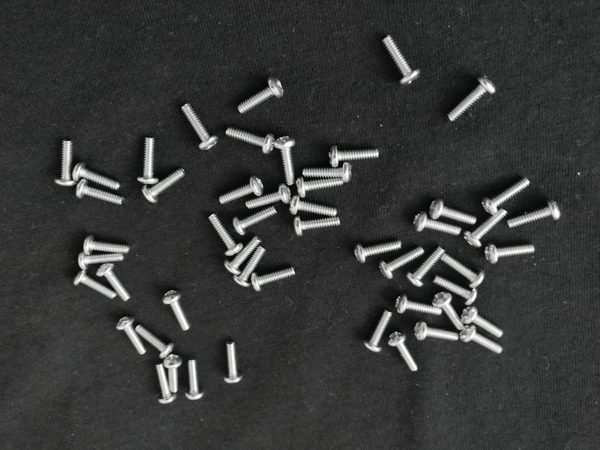shortscrew: (448, 75, 497, 123), (383, 35, 421, 87), (481, 179, 530, 216), (181, 103, 218, 150), (238, 77, 284, 114), (464, 209, 507, 248), (441, 253, 485, 288), (407, 247, 445, 287), (508, 199, 562, 227), (208, 213, 243, 256), (142, 169, 186, 203), (224, 236, 261, 275), (380, 248, 424, 280), (233, 206, 279, 236), (462, 306, 505, 338), (234, 246, 266, 288), (219, 176, 265, 205), (97, 263, 131, 302), (226, 127, 275, 154), (433, 276, 477, 306), (460, 325, 505, 354), (388, 331, 419, 373), (136, 325, 174, 359), (73, 269, 116, 299), (73, 163, 120, 190), (75, 180, 125, 205), (364, 309, 392, 353), (485, 241, 537, 264), (246, 184, 292, 210), (116, 315, 145, 356), (432, 293, 464, 330), (431, 198, 476, 224), (163, 289, 190, 332), (329, 145, 380, 167), (275, 135, 297, 186), (354, 241, 402, 264), (252, 267, 296, 292), (414, 212, 461, 235), (55, 140, 78, 187), (302, 162, 353, 183), (397, 294, 443, 316), (296, 177, 344, 198), (289, 195, 337, 216), (415, 320, 461, 341), (293, 217, 341, 237), (138, 137, 158, 184), (155, 363, 177, 404), (83, 236, 130, 255), (223, 340, 243, 384), (186, 358, 205, 401), (78, 254, 124, 271), (165, 353, 183, 393)
